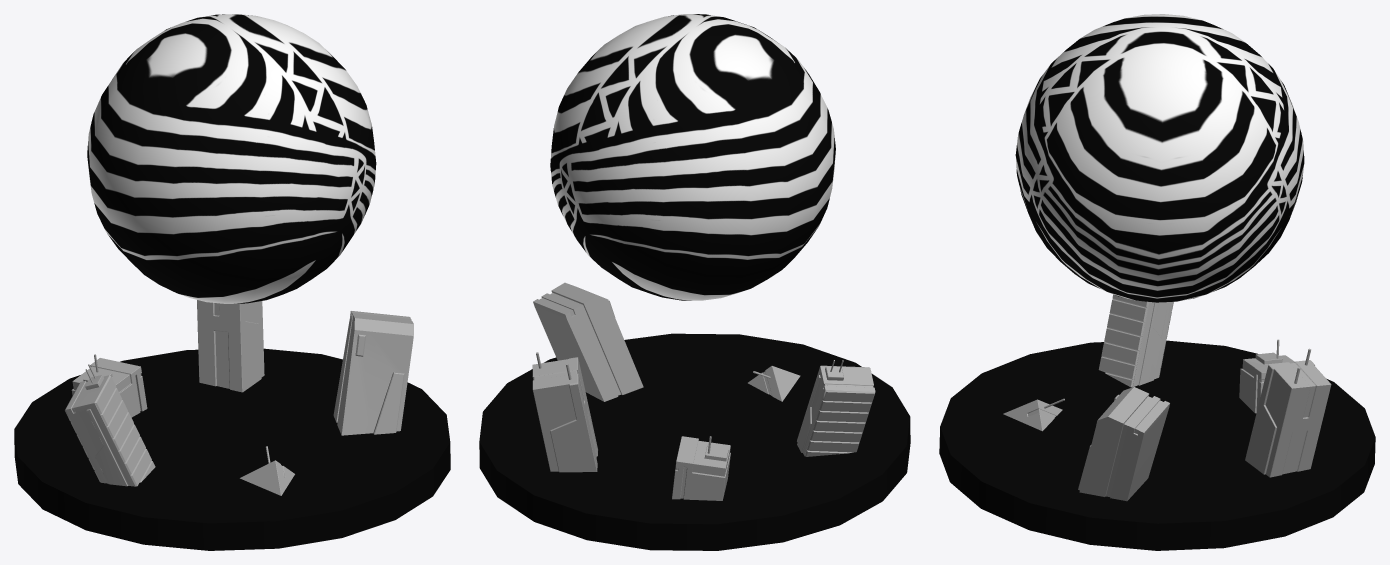
The model's file is leliel.glb.
3 renders of one model, left to right at view 1: azimuth 30°, elevation 25°; view 2: azimuth 150°, elevation 25°; view 3: azimuth 270°, elevation 25°, orthographic.
Parts seen in each view (by area): view 1: pSphere1, pCylinder8, pCube7, pCube6, pCube2, pCylinder7, pCube4; view 2: pSphere1, pCylinder8, pCube7, pCube2, pCube6, pCylinder7, pCube4; view 3: pSphere1, pCylinder8, pCube2, pCube7, pCube6, pCylinder7, pCube4.
Part boxes in pixels (box(x1,y1,x2,y2)): pSphere1: box(87, 14, 376, 303); pCylinder8: box(14, 348, 450, 550); pCube7: box(333, 311, 413, 435); pCube6: box(65, 364, 155, 486); pCube2: box(197, 300, 264, 392); pCylinder7: box(71, 354, 147, 417); pCube4: box(240, 446, 294, 495); pSphere1: box(550, 14, 835, 300); pCylinder8: box(479, 333, 910, 550); pCube7: box(533, 282, 643, 401); pCube2: box(532, 352, 597, 472); pCube6: box(797, 360, 875, 456); pCylinder7: box(672, 436, 730, 500); pCube4: box(748, 366, 800, 401); pSphere1: box(1015, 14, 1304, 302); pCylinder8: box(939, 340, 1375, 550); pCube2: box(1245, 348, 1331, 477); pCube7: box(1078, 387, 1169, 501); pCube6: box(1098, 294, 1173, 387); pCylinder7: box(1239, 339, 1294, 413); pCube4: box(1003, 398, 1064, 431).
Size of the model in its own units: 8.52 by 9.44 by 8.54.
3 materials, 1 textured.
